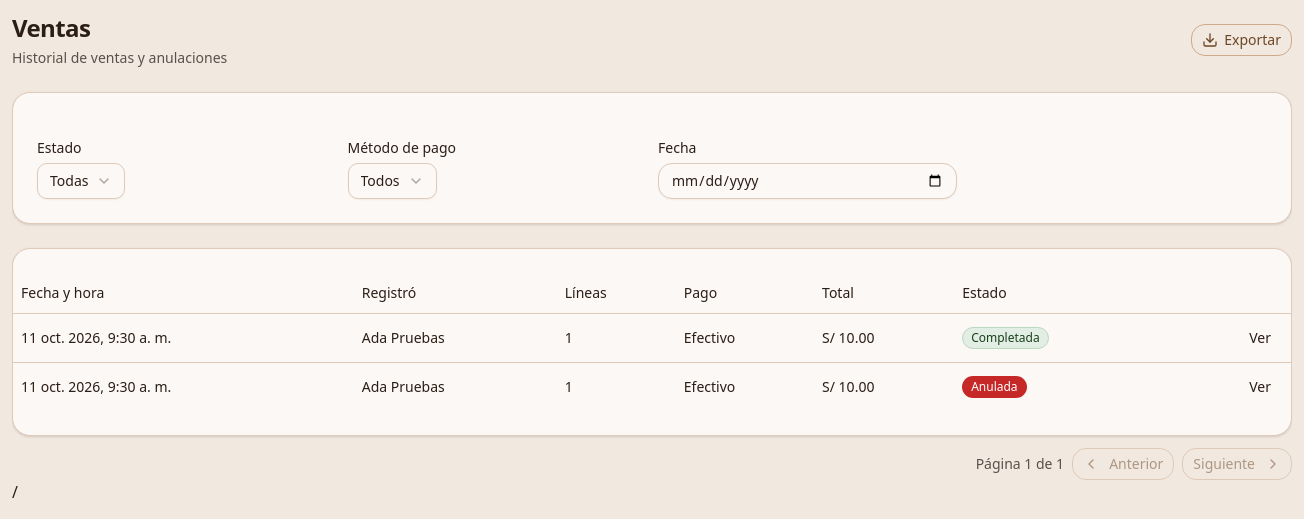
botón Exportar de los listados › Ventas sin fecha abre Exportaciones con el conjunto preseleccionado
Check: the text "Completada" is shown, box [962,326,1049,348]
What coordinates should you click on to do the following:
click the button with aria-label "Exportar Ventas en Excel"
I would click on:
 (1242, 40)
Its box is [1191,24,1292,56].
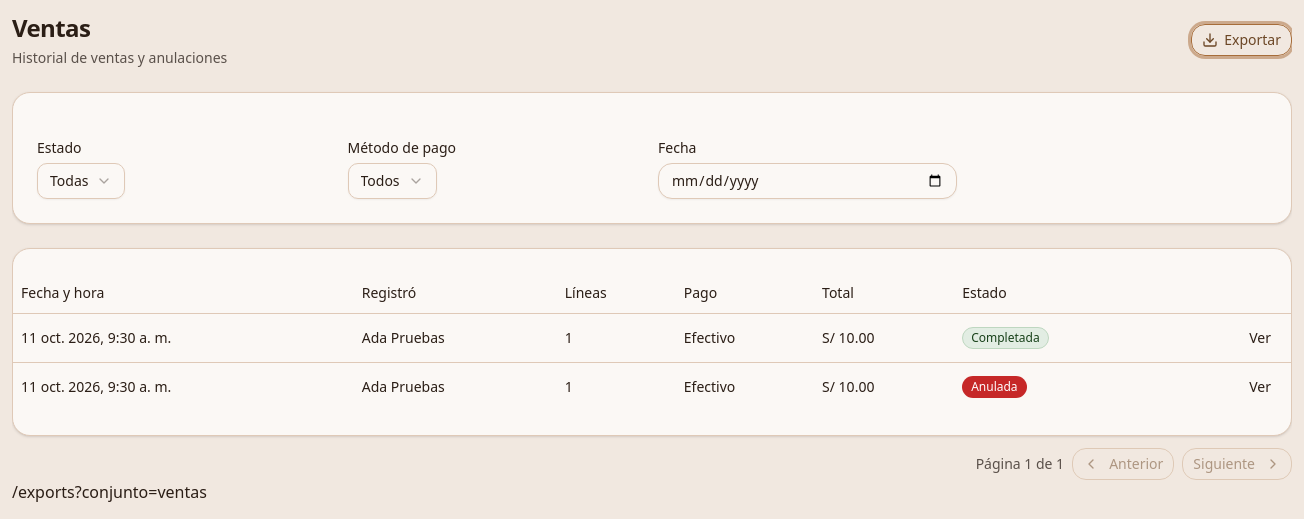
Check: the text "/exports?conjunto=ventas" is shown, box [12,480,207,502]
